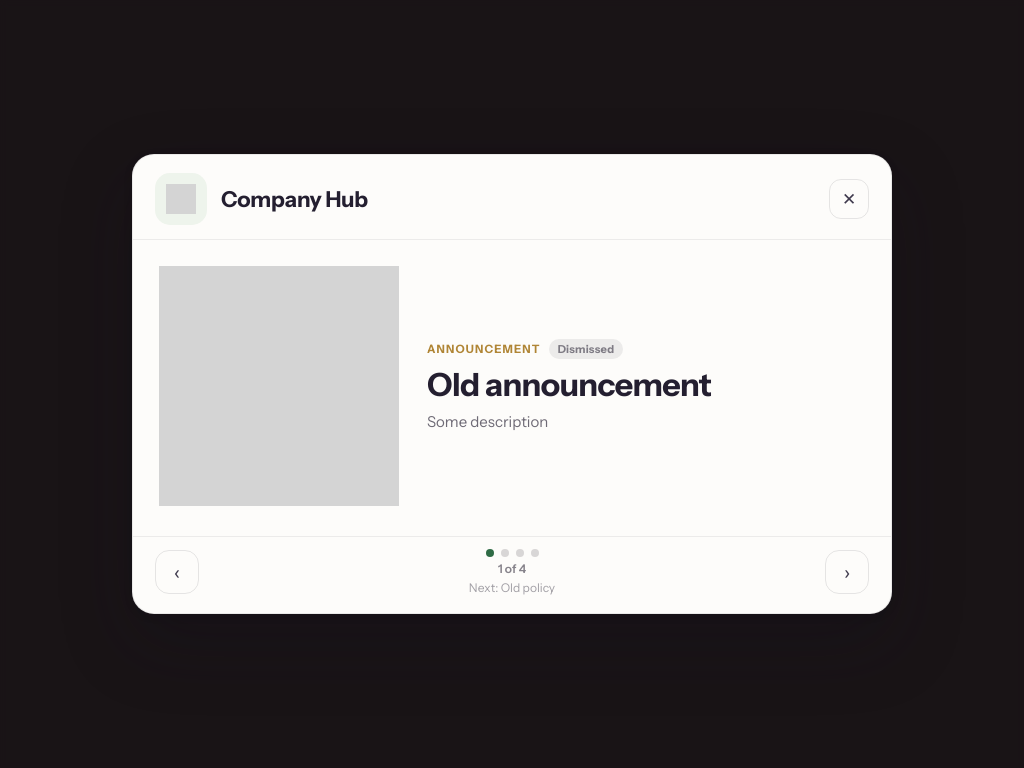
CompanyHub › manual reopen shows dismissed/acknowledged items with a state badge, read-only (no action buttons)
Expected: the text "1 of 4" is shown, left=498, top=561, right=526, bottom=576
Expected: the number of tabs is 4, left=486, top=549, right=494, bottom=557; left=500, top=549, right=508, bottom=557; left=516, top=549, right=524, bottom=557; left=530, top=549, right=538, bottom=557
Item 2 — acknowledged required: state badge shown, and no Acknowledge action re-offered.
Click the button named "Next item" at (847, 572), box left=825, top=550, right=869, bottom=594
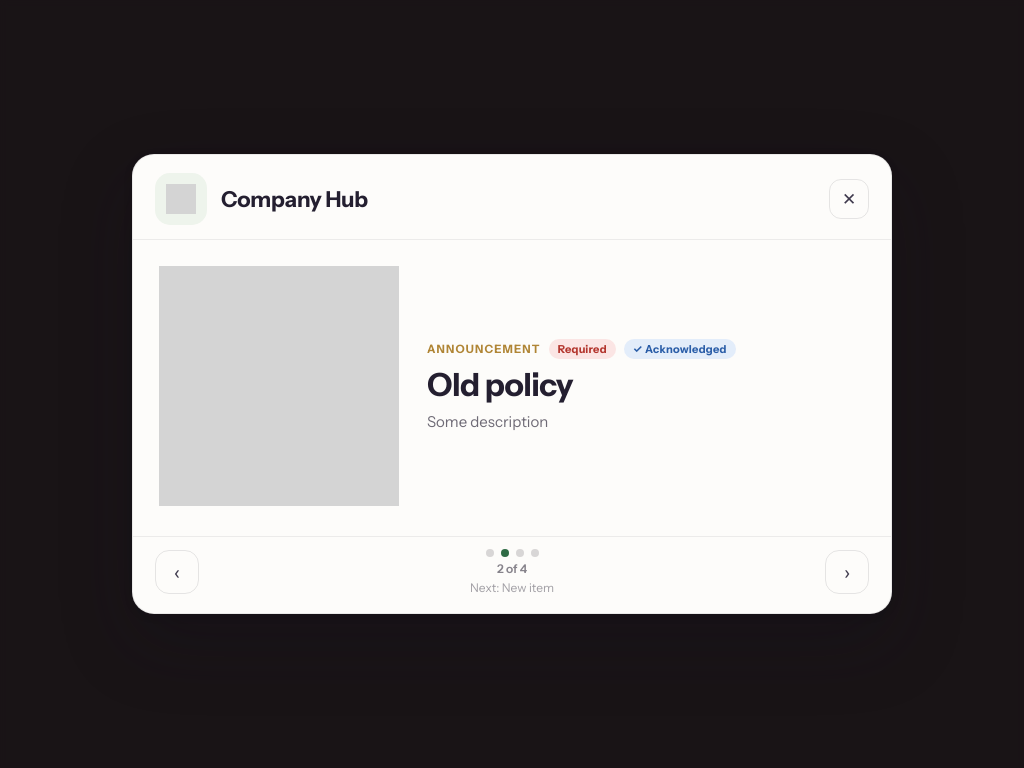
Result: the heading "Old policy" is shown at left=427, top=367, right=573, bottom=403
Result: the text "✓ Acknowledged" is shown at left=624, top=339, right=736, bottom=359
Item 3 — still fresh: keeps its normal actionable buttons.
Click the button named "Next item" at (847, 572), box left=825, top=550, right=869, bottom=594
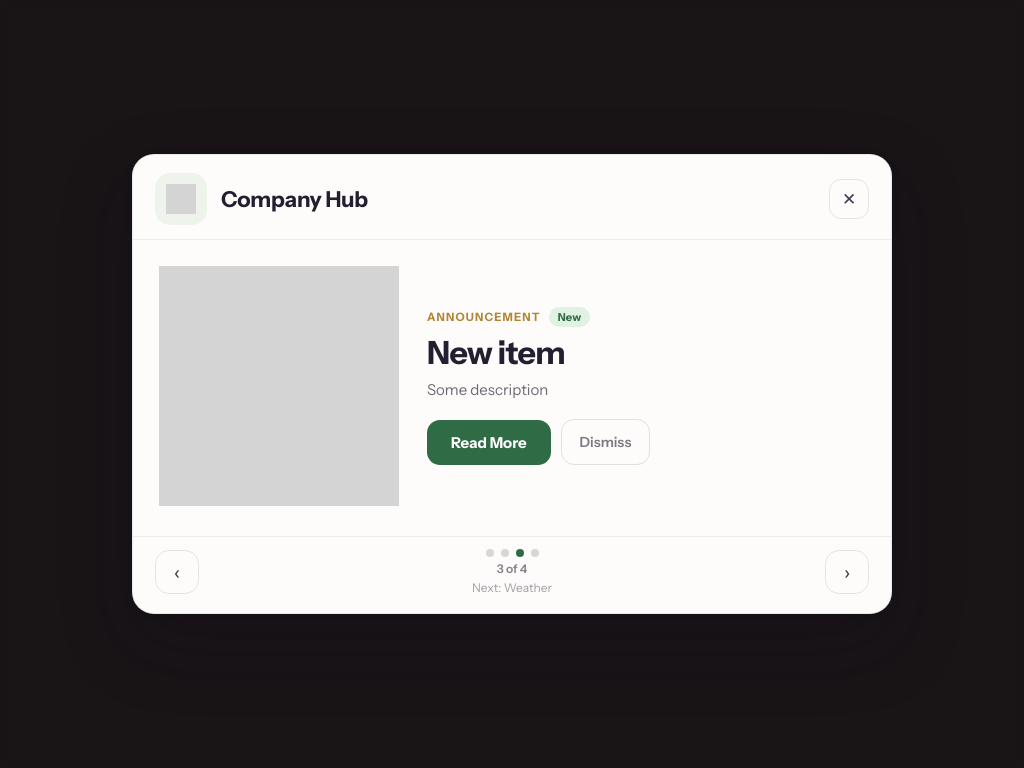
Result: the heading "New item" is shown at left=427, top=335, right=565, bottom=371
Result: the text "New" is shown at left=549, top=307, right=590, bottom=327
Result: the button "Read More" is shown at left=427, top=420, right=551, bottom=465
